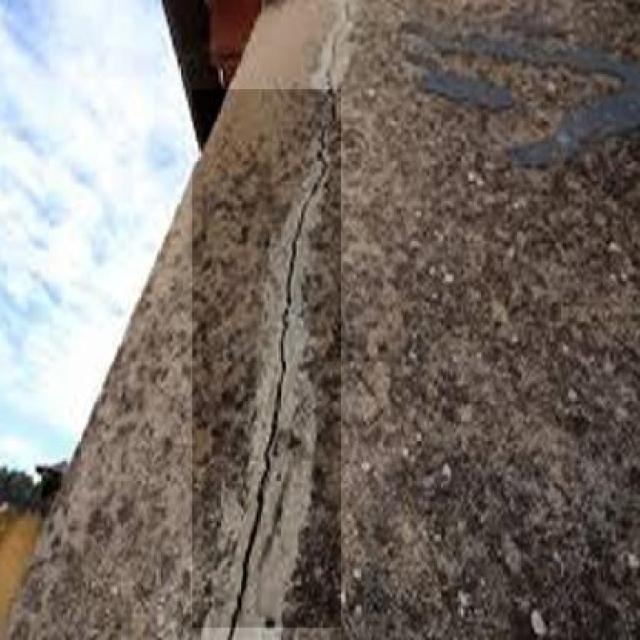Crack: (194, 0, 385, 638)
